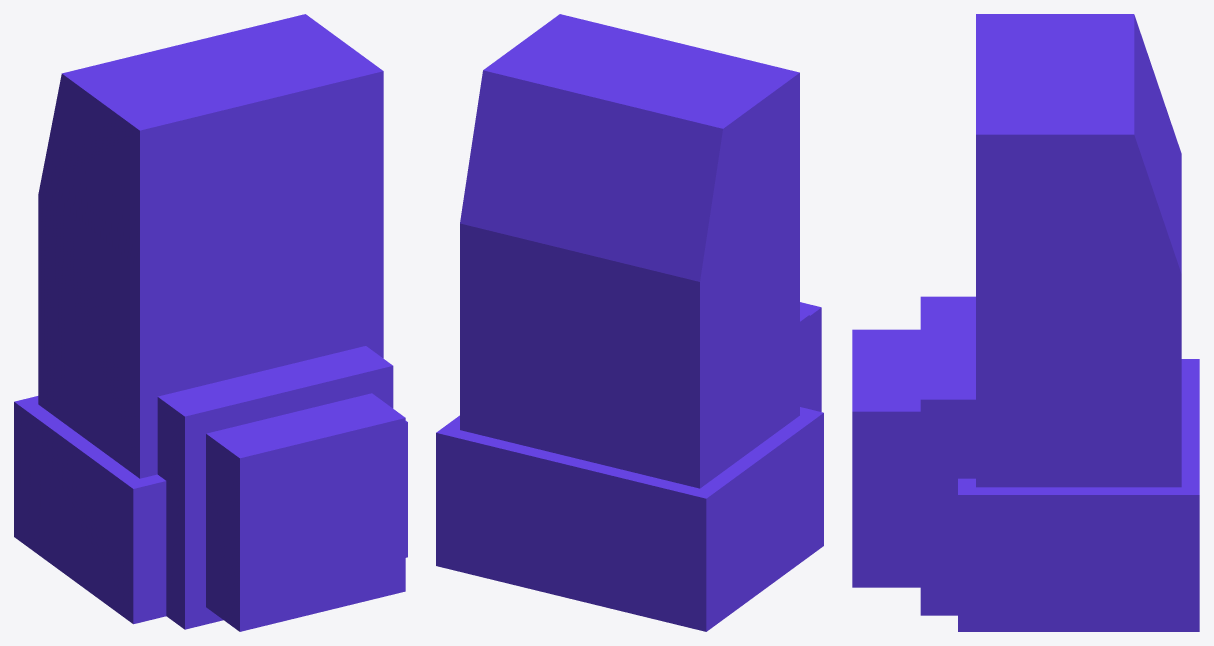
Rendered from PowerTerminalHitbox.fbx.
The picture shows the model from 3 angles, left to right: view 1: azimuth 30°, elevation 25°; view 2: azimuth 150°, elevation 25°; view 3: azimuth 270°, elevation 25°; orthographic projection. The views are drawn at different scales.
Visible parts, largest first — view 1: Cube.050; view 2: Cube.050; view 3: Cube.050.
Boxes of the visible parts, box(x1,y1,x2,y2) form: Cube.050: box(14, 14, 407, 631); Cube.050: box(436, 14, 823, 631); Cube.050: box(852, 14, 1199, 631).
Bounding box in the file's own units: 53.62 × 90.23 × 58.01.
